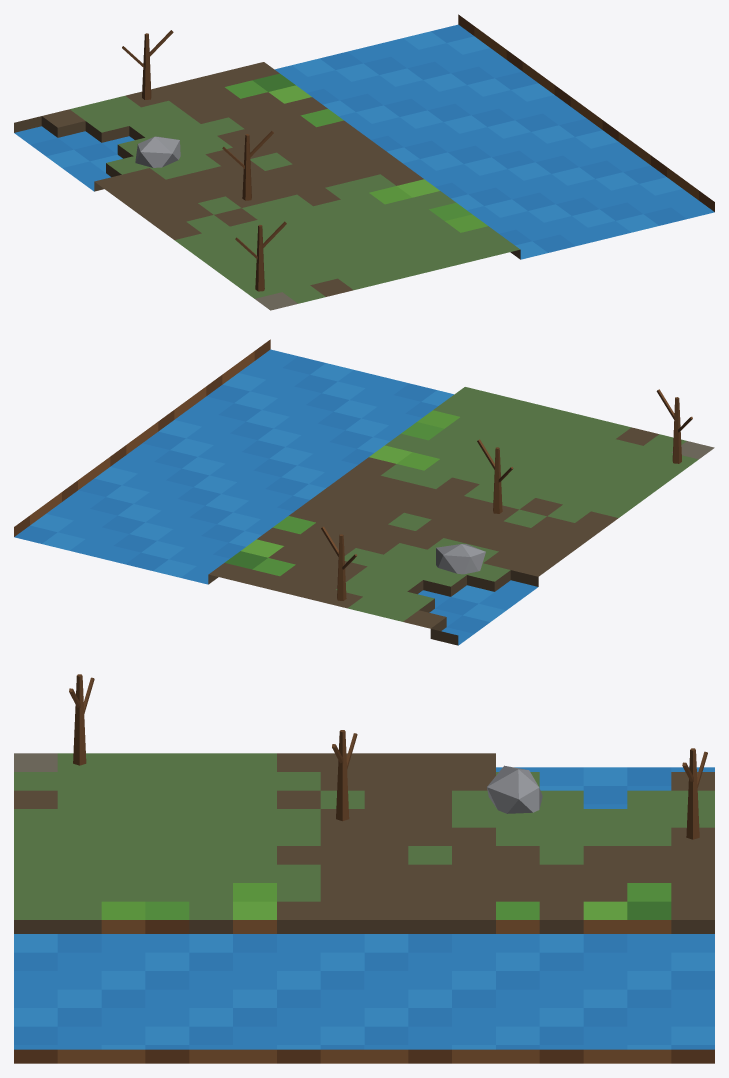
File: chunk_3_18.glb
The picture shows the model from 3 angles, top to bottom: view 1: azimuth 30°, elevation 25°; view 2: azimuth 150°, elevation 25°; view 3: azimuth 270°, elevation 25°; orthographic projection. The views are drawn at different scales.
Parts seen in each view (by area): view 1: chunk_3_18; view 2: chunk_3_18; view 3: chunk_3_18.
Boxes of the visible parts, x1,y1,x2,y2 form: chunk_3_18: (14,14,714,310); chunk_3_18: (14,339,714,645); chunk_3_18: (14,674,714,1063).
Size of the model in its own units: 16.24 by 2.71 by 16.
